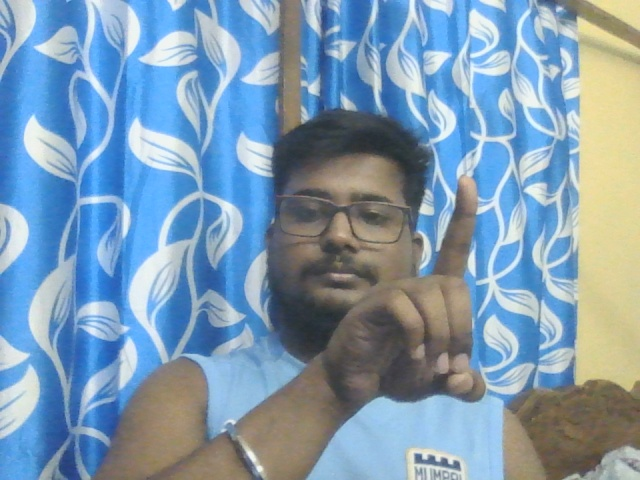D: (339, 173, 485, 406)
